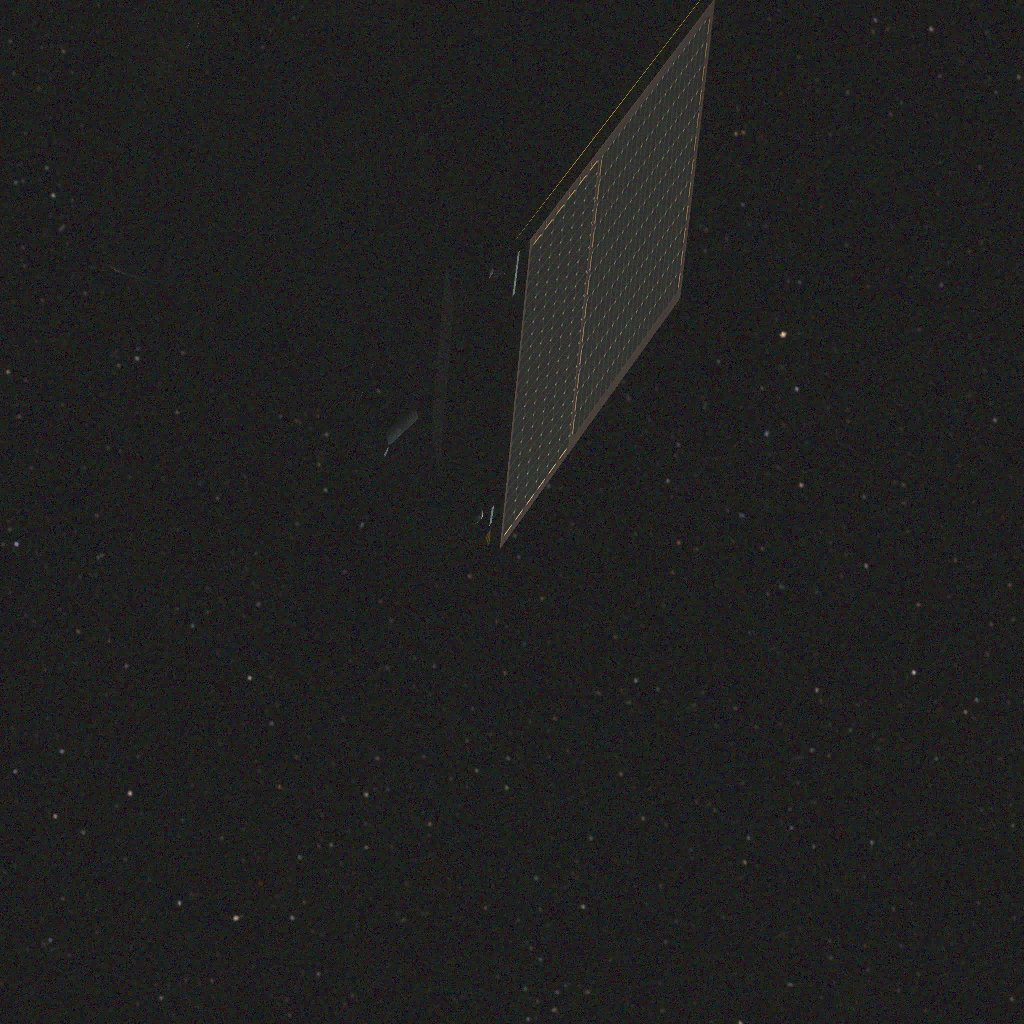cheops: (100, 0, 715, 549)
